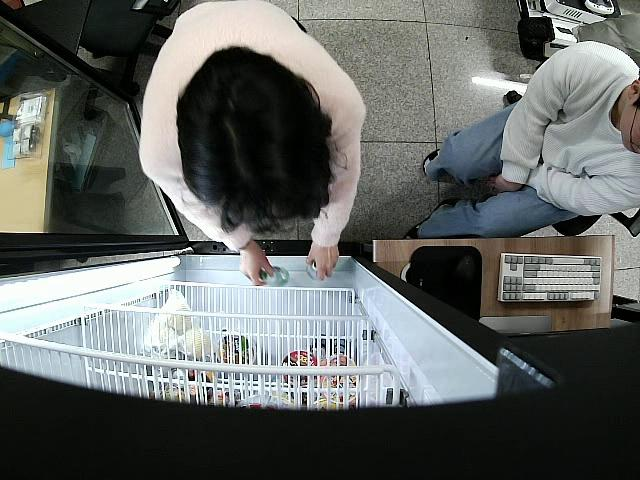00_hand: (306, 245, 339, 279), (239, 255, 275, 286)
18_trevi: (251, 267, 291, 286), (303, 260, 320, 280)
